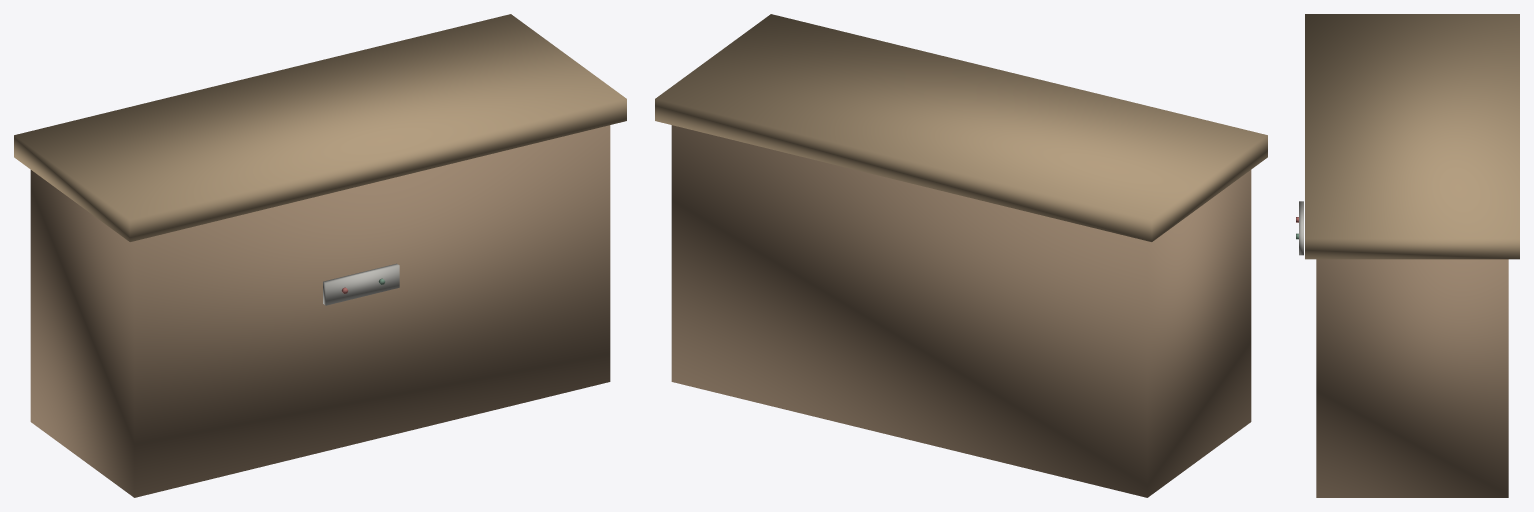
File: funeral_reception_counter.glb
The picture shows the model from 3 angles, left to right: view 1: azimuth 30°, elevation 25°; view 2: azimuth 150°, elevation 25°; view 3: azimuth 270°, elevation 25°; orthographic projection. The views are drawn at different scales.
Visible parts, largest first — view 1: world; view 2: world; view 3: world.
Part boxes in pixels (box(x1,y1,x2,y2)): world: box(14, 14, 626, 497); world: box(655, 14, 1267, 497); world: box(1296, 14, 1519, 497).
Bounding box in the file's own units: 1.88 × 1.03 × 0.791.
